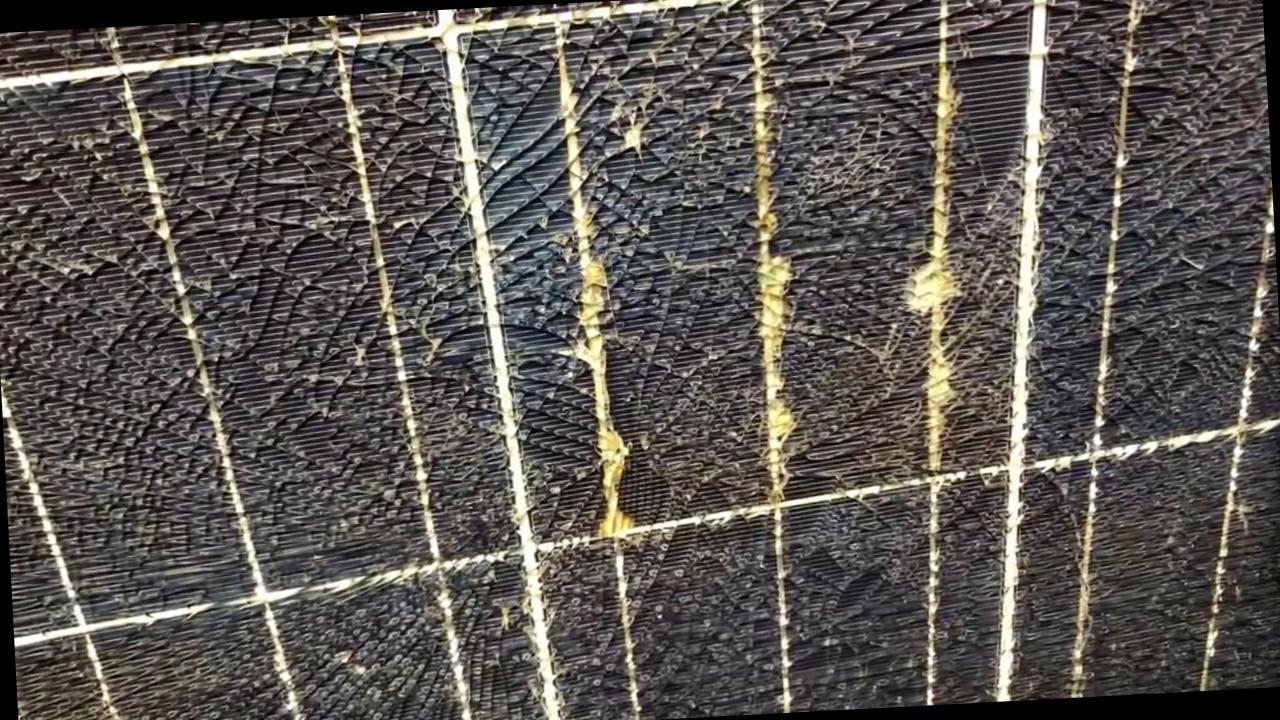Crack: (508, 0, 1266, 515), (0, 21, 523, 598), (577, 480, 1279, 719), (16, 469, 561, 719)
